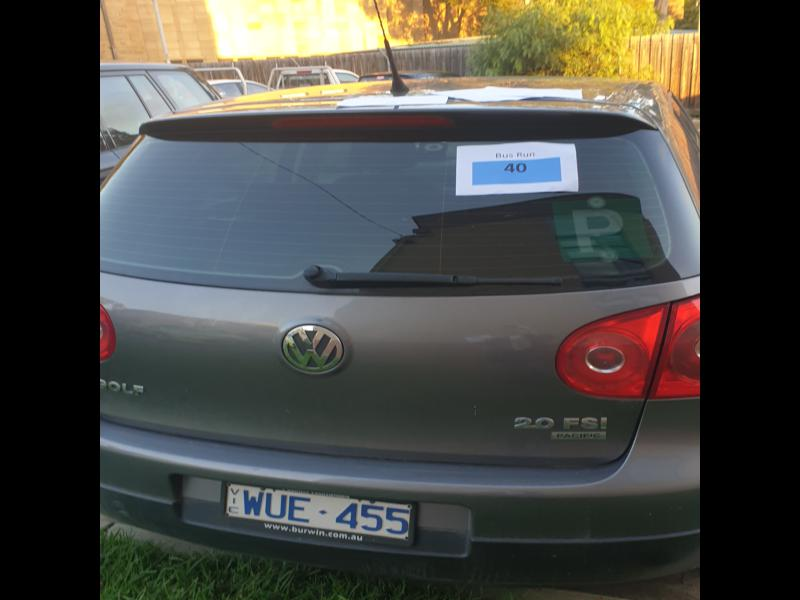BusRun: (474, 158, 565, 184)
PlateNo: (218, 479, 415, 539)
